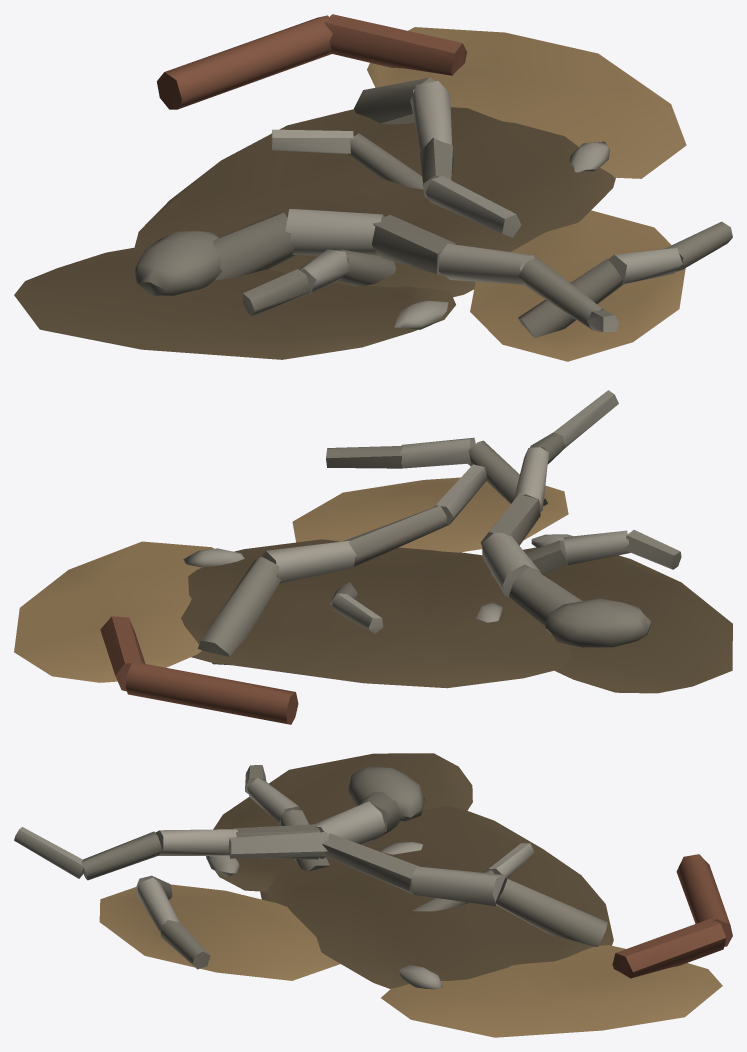
The model's file is fulgurite_b_lod1.glb.
3 renders of one model, top to bottom at view 1: azimuth 30°, elevation 25°; view 2: azimuth 150°, elevation 25°; view 3: azimuth 270°, elevation 25°, orthographic. The views are drawn at different scales.
Visible parts, largest first — view 1: Surface.001; view 2: Surface.001; view 3: Surface.001.
Boxes of the visible parts, bbox=[...] form: Surface.001: bbox=[14, 14, 732, 361]; Surface.001: bbox=[14, 390, 732, 724]; Surface.001: bbox=[14, 753, 732, 1037].
Size of the model in its own units: 2.85 by 0.4004 by 3.05.
